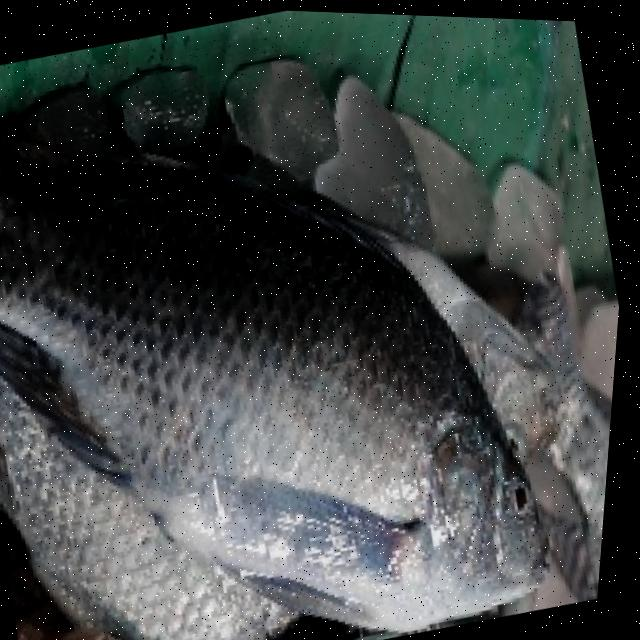Fresh: (78, 153, 615, 640)
